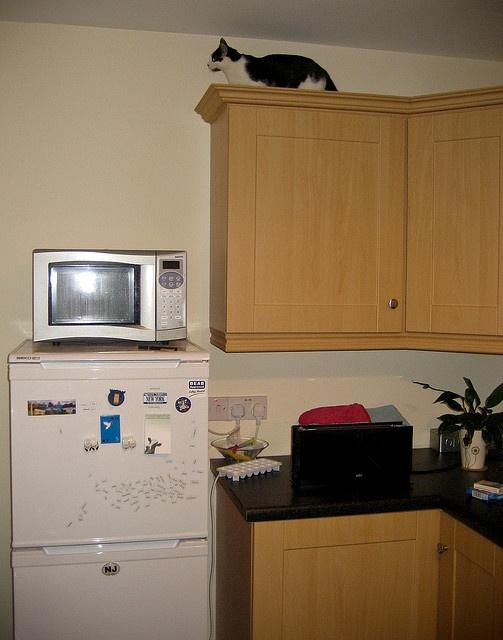Lemari: (195, 82, 502, 354)
